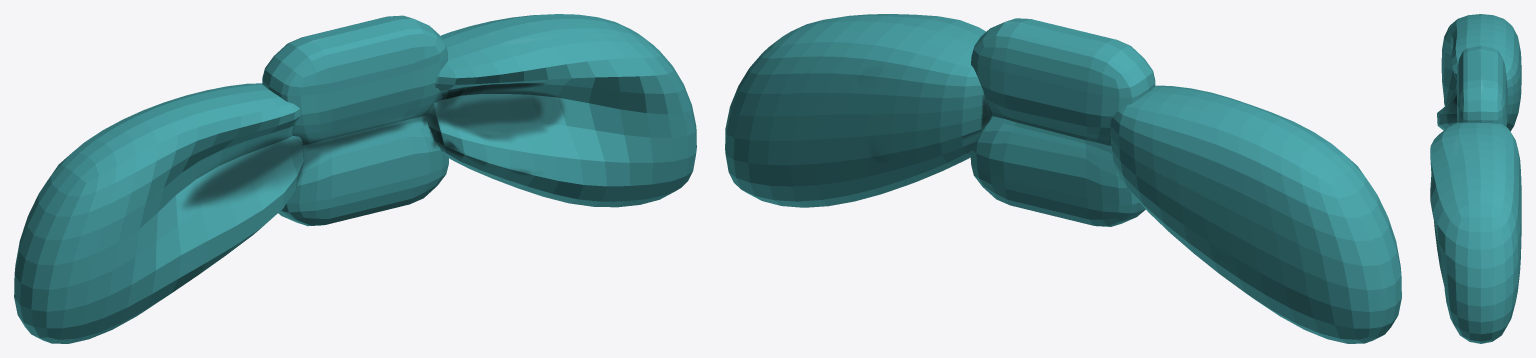
Rendered from bowTie.fbx.
The picture shows the model from 3 angles, left to right: view 1: azimuth 30°, elevation 25°; view 2: azimuth 150°, elevation 25°; view 3: azimuth 270°, elevation 25°; orthographic projection. The views are drawn at different scales.
Visible parts, largest first — view 1: Bow; view 2: Bow; view 3: Bow.
Boxes of the visible parts, left/top/right/bottom form: Bow: left=14, top=14, right=696, bottom=343; Bow: left=725, top=14, right=1401, bottom=343; Bow: left=1430, top=14, right=1521, bottom=343.
Bounding box in the file's own units: 428 × 146 × 69.96.
